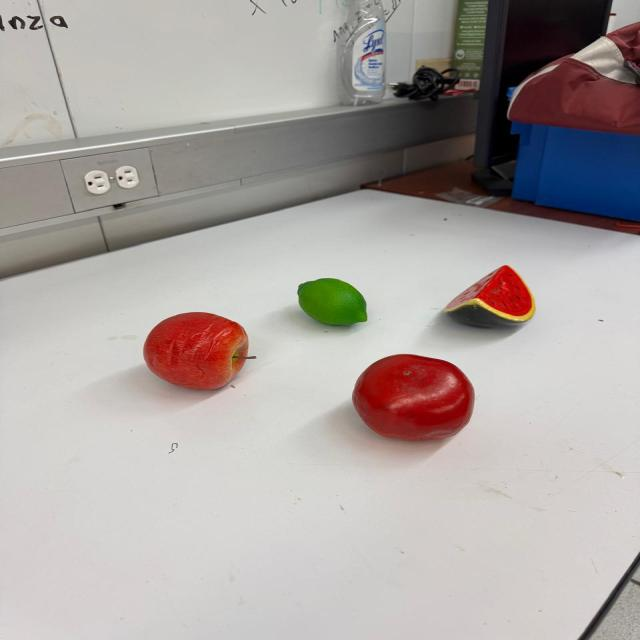apple: (142, 312, 254, 390)
lemon: (297, 278, 369, 326)
tomato: (352, 354, 474, 442)
watermelon: (442, 265, 536, 328)
